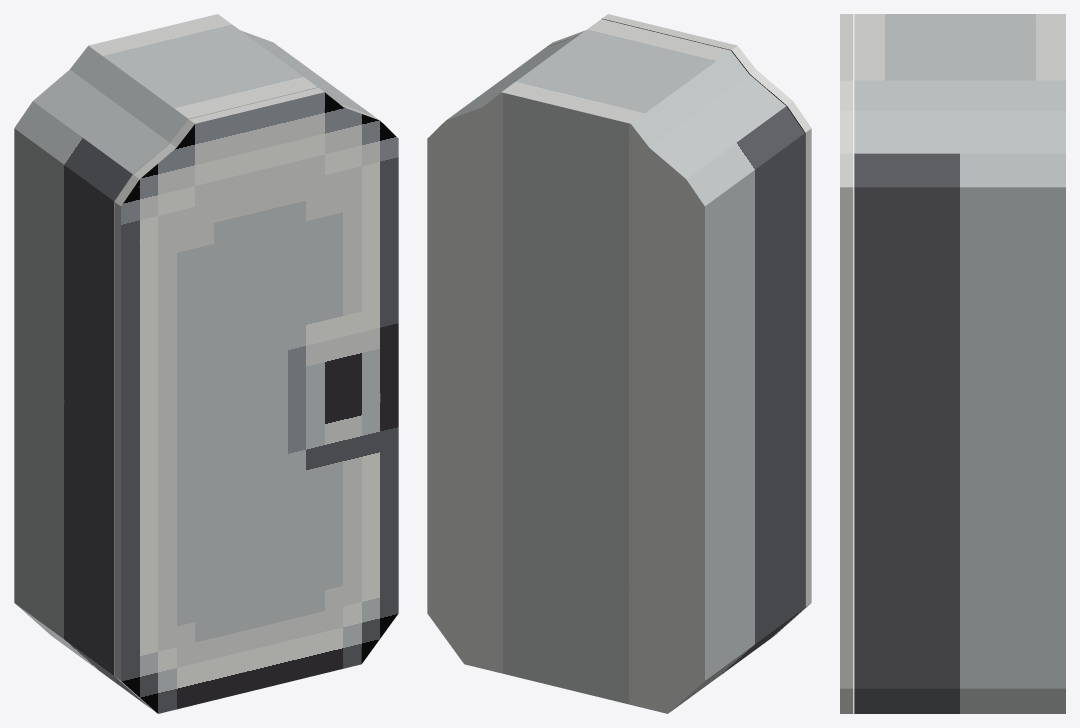
File: locker_freezer.glb
3 views of the same model, side by side, from view 1: azimuth 30°, elevation 25°; view 2: azimuth 150°, elevation 25°; view 3: azimuth 270°, elevation 25° (orthographic). The views are drawn at different scales.
Visible parts, largest first — view 1: Locker_Door, Locker_Body; view 2: Locker_Body, Locker_Door; view 3: Locker_Body, Locker_Door.
Part boxes in pixels (left/top/right/bottom): Locker_Door: left=115, top=87, right=398, bottom=713; Locker_Body: left=14, top=14, right=373, bottom=708; Locker_Body: left=427, top=19, right=804, bottom=713; Locker_Door: left=547, top=14, right=811, bottom=639; Locker_Body: left=854, top=14, right=1065, bottom=713; Locker_Door: left=840, top=14, right=853, bottom=713.
Bounding box in the file's own units: 0.9 × 1.8 × 0.6.
3 materials, 3 textured.
